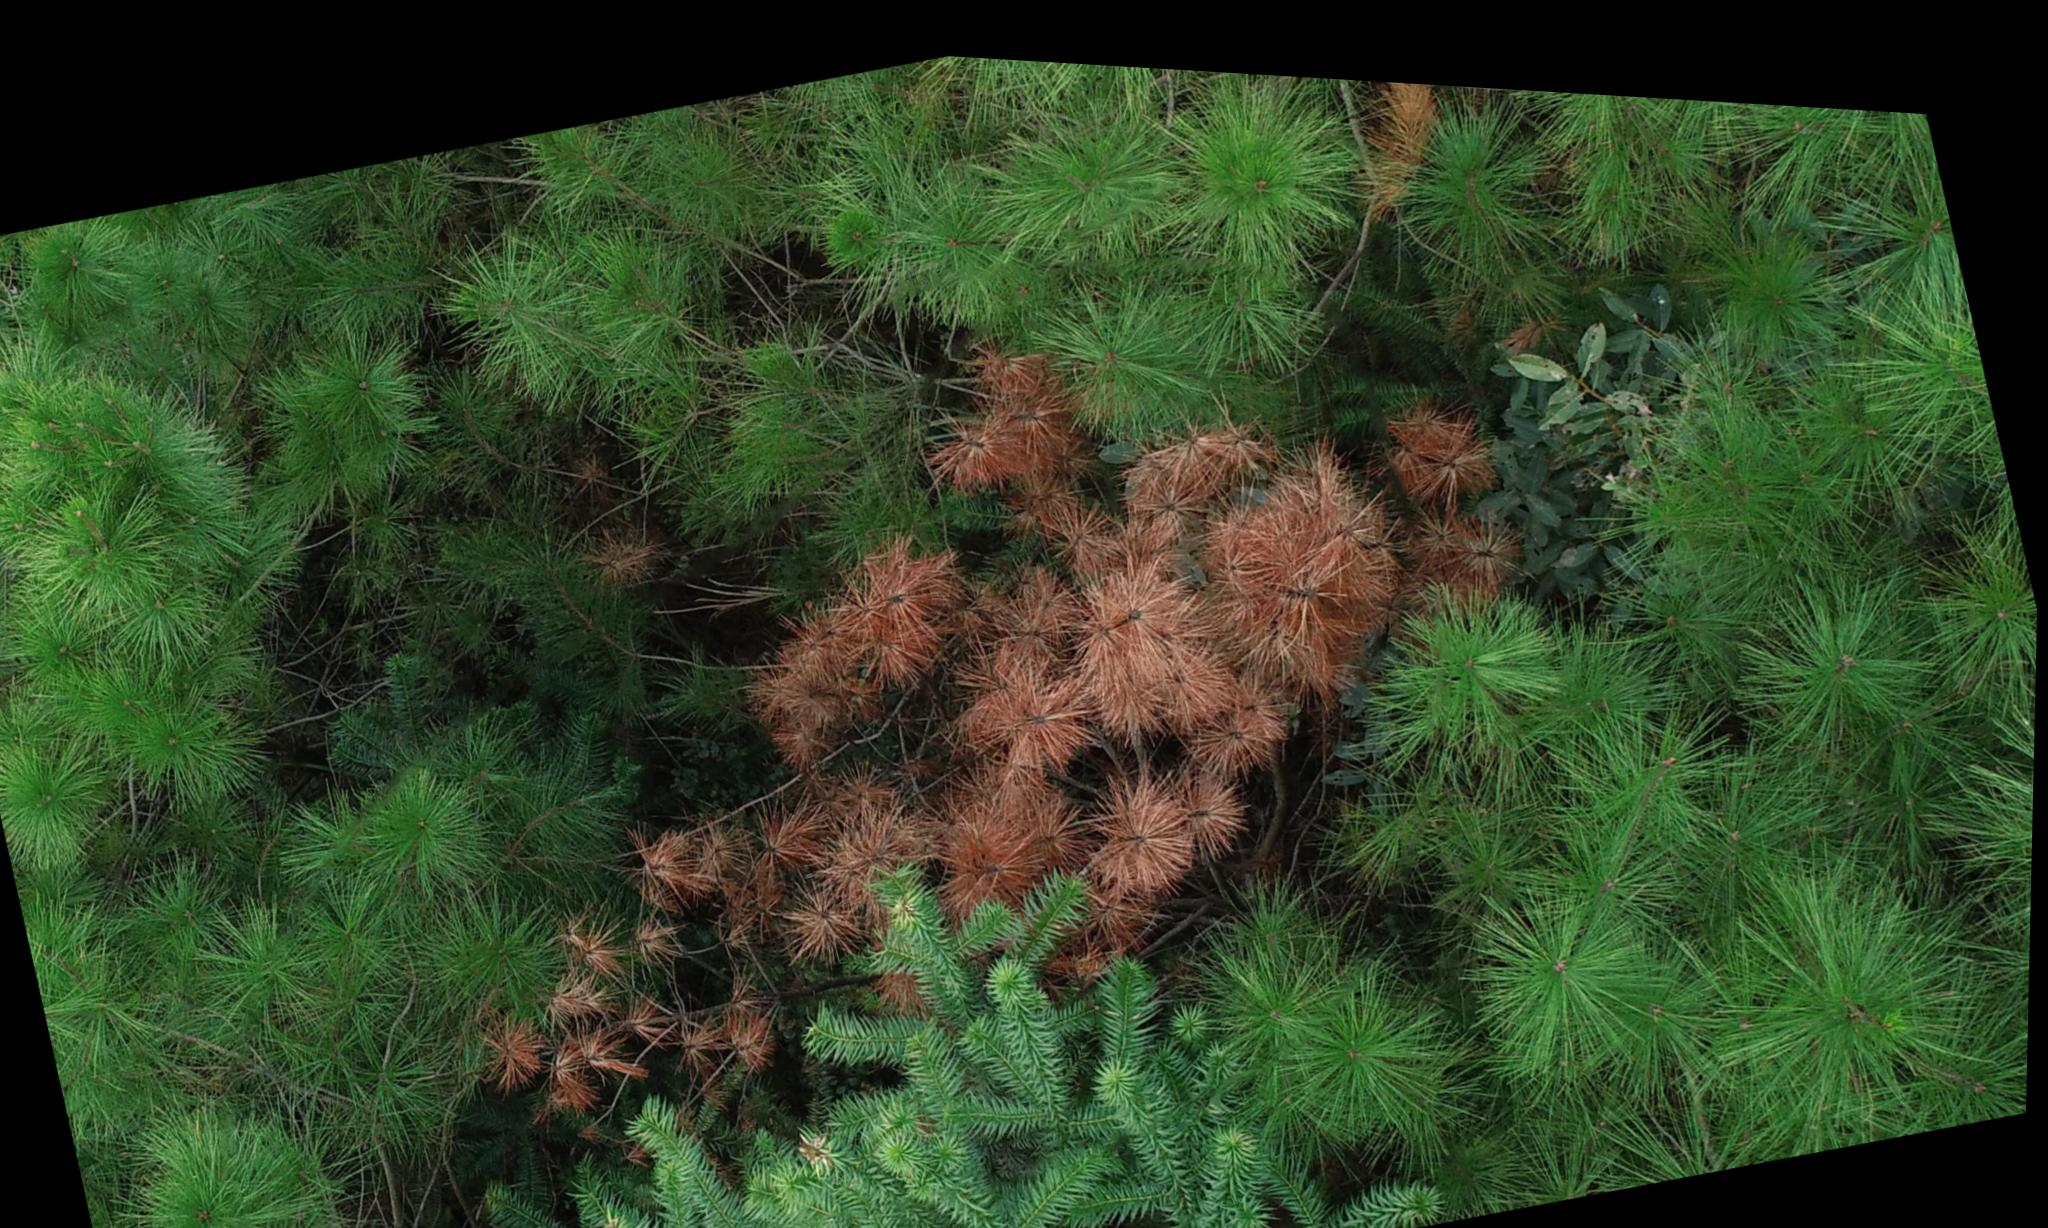heavy: (398, 235, 1618, 1186)
